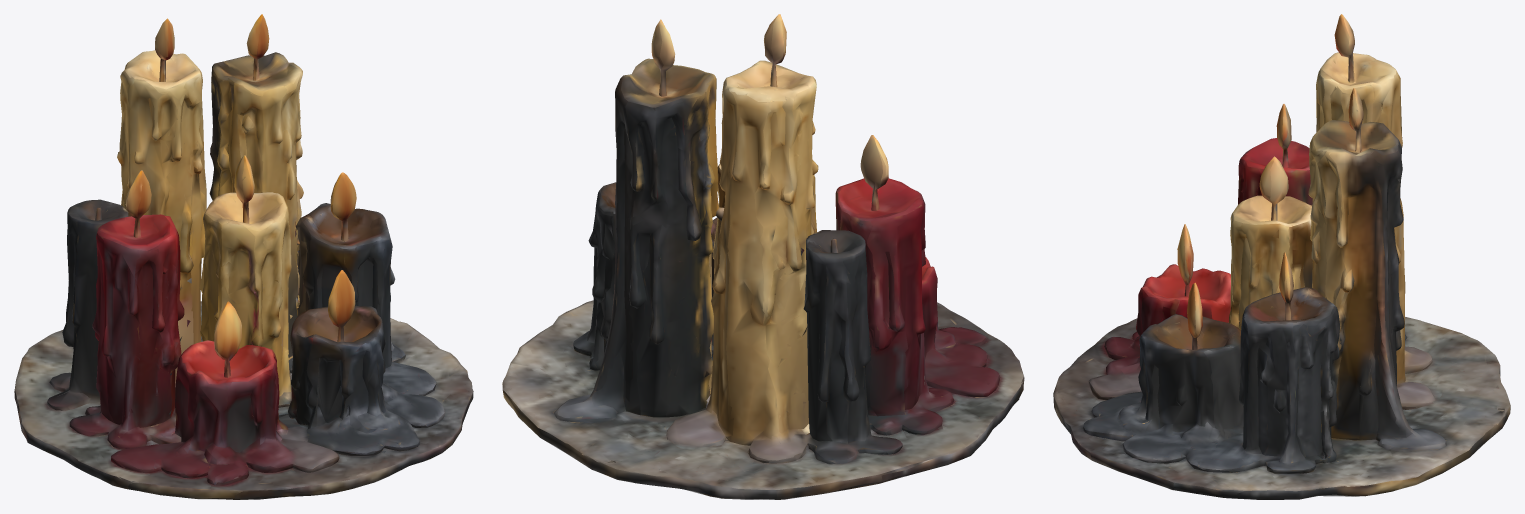
Rendered from staggered-seven-candle-cluster-optimized.glb.
3 views of the same model, side by side, from view 1: azimuth 30°, elevation 25°; view 2: azimuth 150°, elevation 25°; view 3: azimuth 270°, elevation 25° (orthographic). The views are drawn at different scales.
Visible parts, largest first — view 1: geometry_0; view 2: geometry_0; view 3: geometry_0.
Boxes of the visible parts, x1,y1,x2,y2 form: geometry_0: (14, 14, 473, 499); geometry_0: (502, 14, 1024, 499); geometry_0: (1053, 14, 1510, 499).
Size of the model in its own units: 0.3197 by 0.2925 by 0.3196.
Materials: 1 (1 with a texture image).
